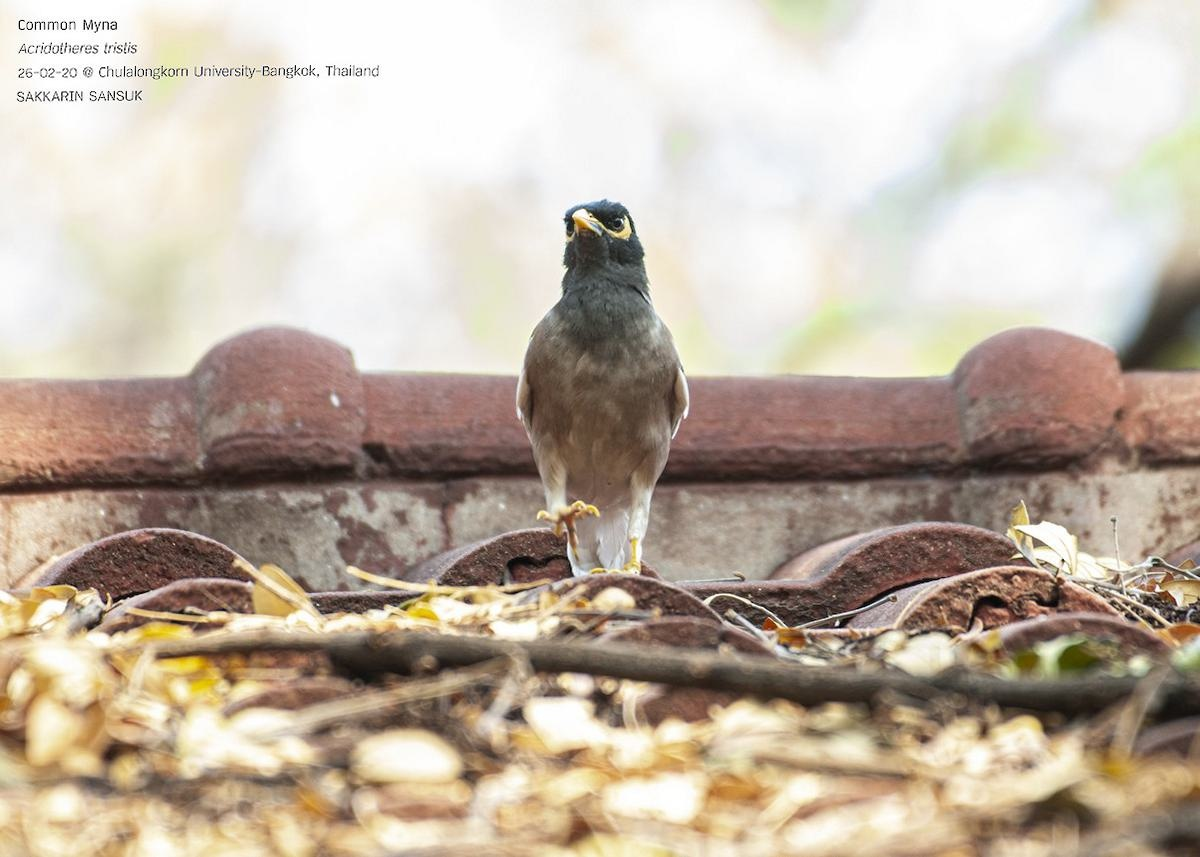myna: (506, 166, 677, 584)
